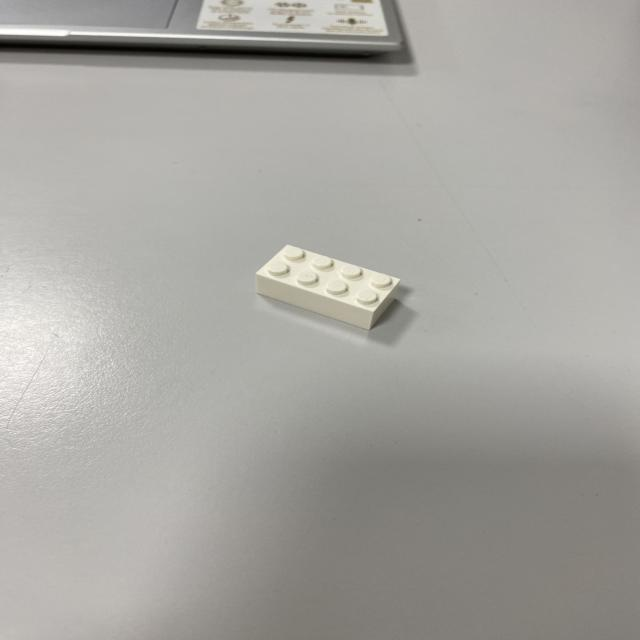C4x2x1: (257, 244, 403, 313), (369, 279, 403, 331)
